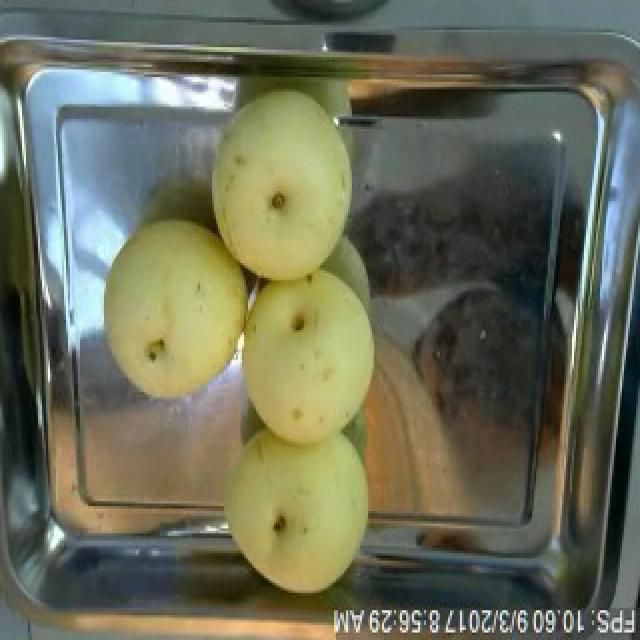Fruit: (196, 80, 368, 296), (90, 208, 256, 414), (216, 407, 380, 603), (234, 258, 386, 454)
